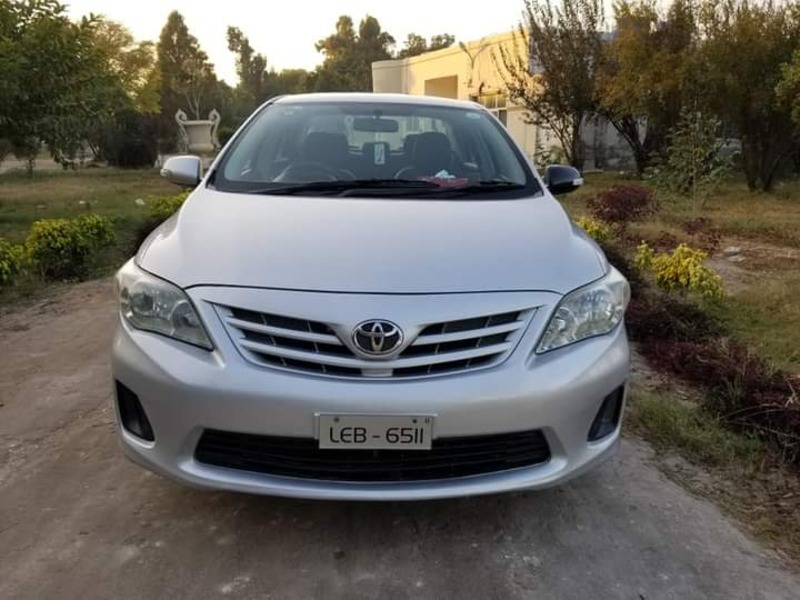License Plate: (316, 412, 438, 453)
